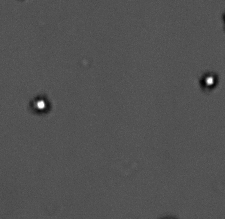Living Cell: (30, 94, 51, 114), (199, 72, 218, 89)
